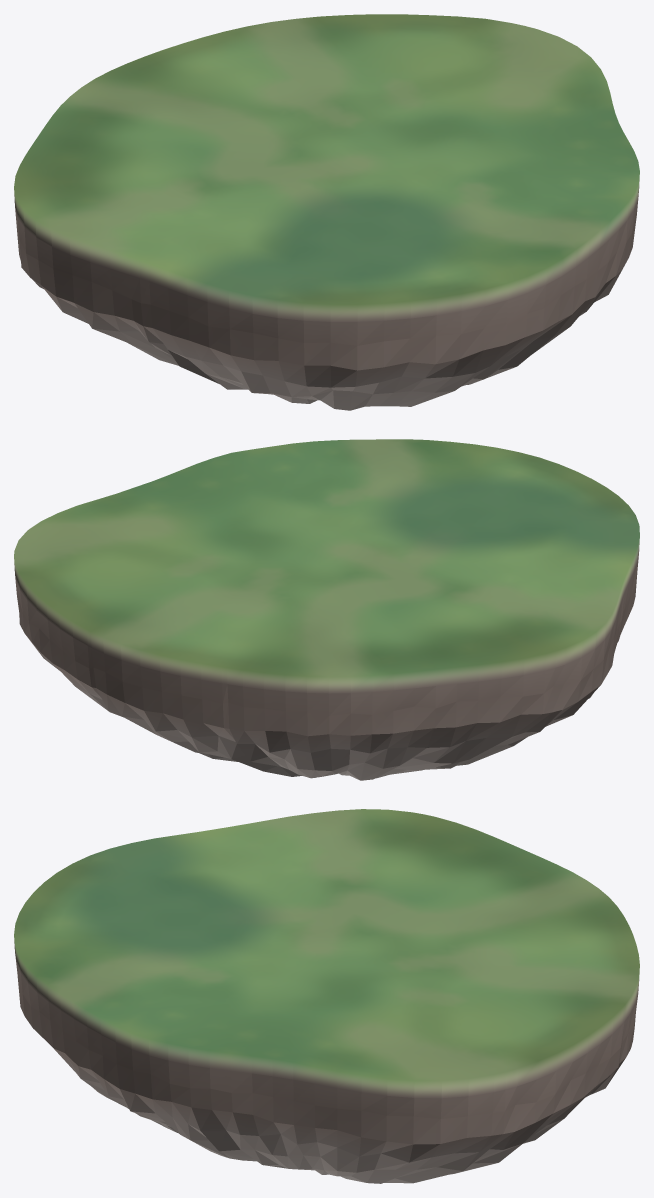
File: piece_main.glb
3 views of the same model, one above another, from view 1: azimuth 30°, elevation 25°; view 2: azimuth 150°, elevation 25°; view 3: azimuth 270°, elevation 25° (orthographic). The views are drawn at different scales.
Parts seen in each view (by area): view 1: piece_main; view 2: piece_main; view 3: piece_main.
Boxes of the visible parts, left/top/right/bottom form: piece_main: left=14, top=14, right=639, bottom=410; piece_main: left=14, top=439, right=639, bottom=780; piece_main: left=14, top=809, right=639, bottom=1183.
Size of the model in its own units: 18.29 by 6.9 by 17.82.
